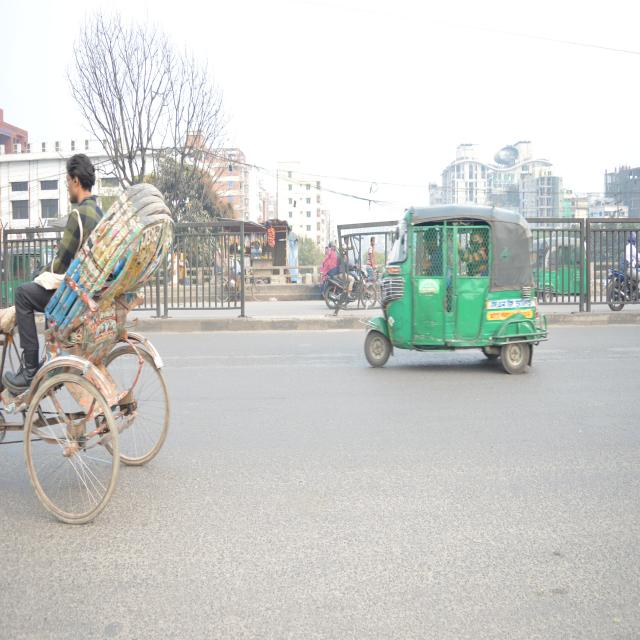motorbike: (320, 258, 378, 317), (606, 250, 640, 314)
